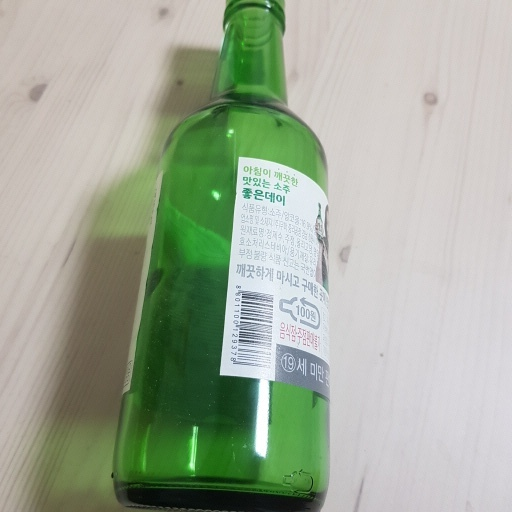Glass_0: (105, 1, 336, 512)
